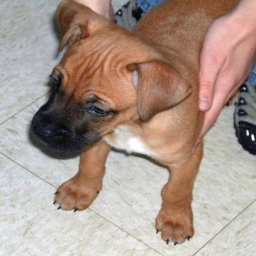dog: (26, 1, 228, 245)
